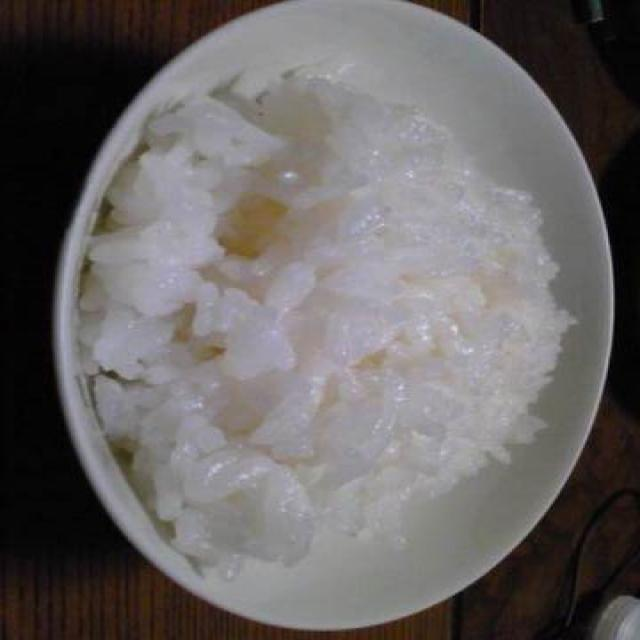Rice: (93, 66, 582, 564)
